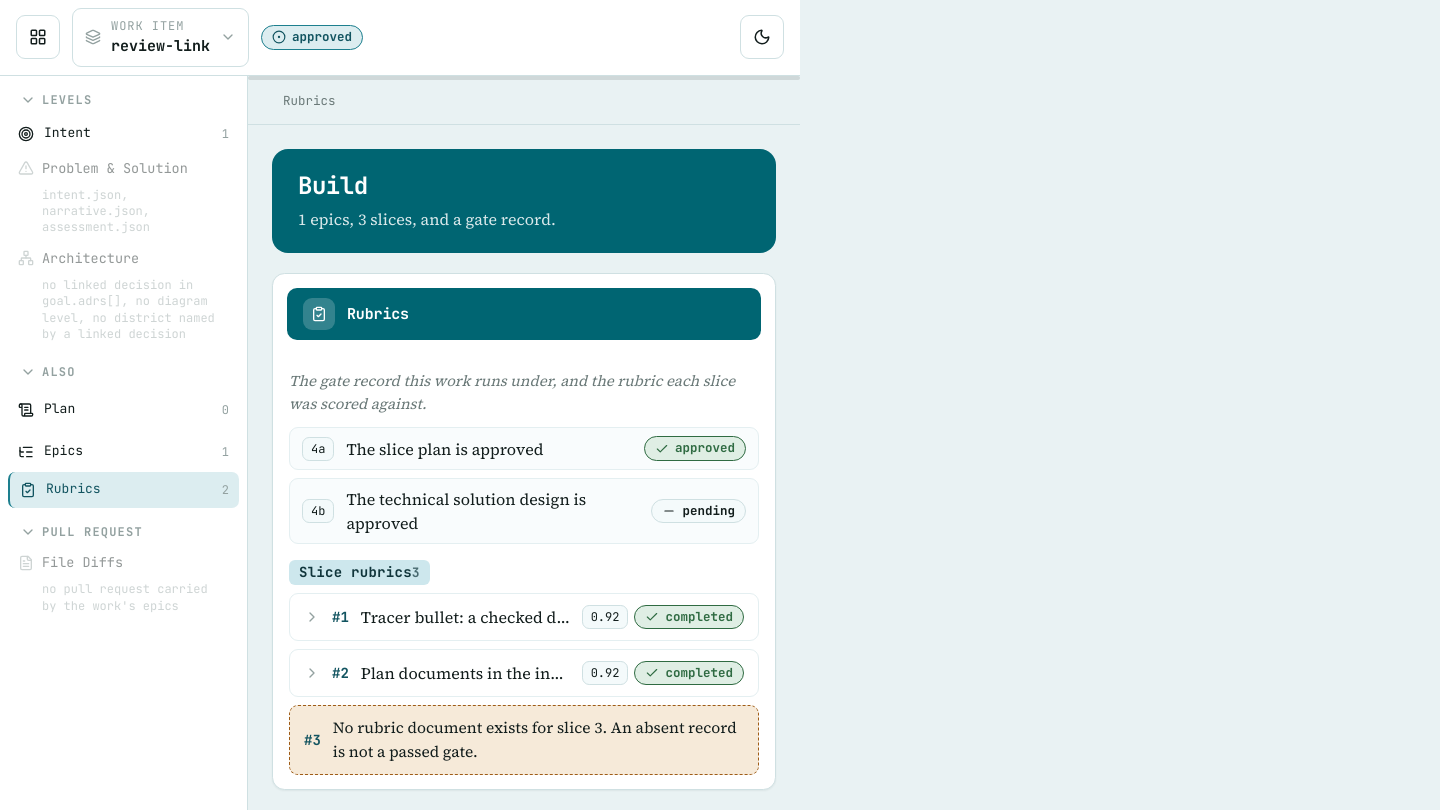
Test: the rubrics page › opens the rubric in the Sheet when a row is pressed
Check: the heading "Rubrics" is shown, box x1=347 y1=303 x2=409 y2=326
Click the button "#1 Tracer bullet: a checked deep link 0.92 completed": (524, 617) x1=289 y1=593 x2=759 y2=641
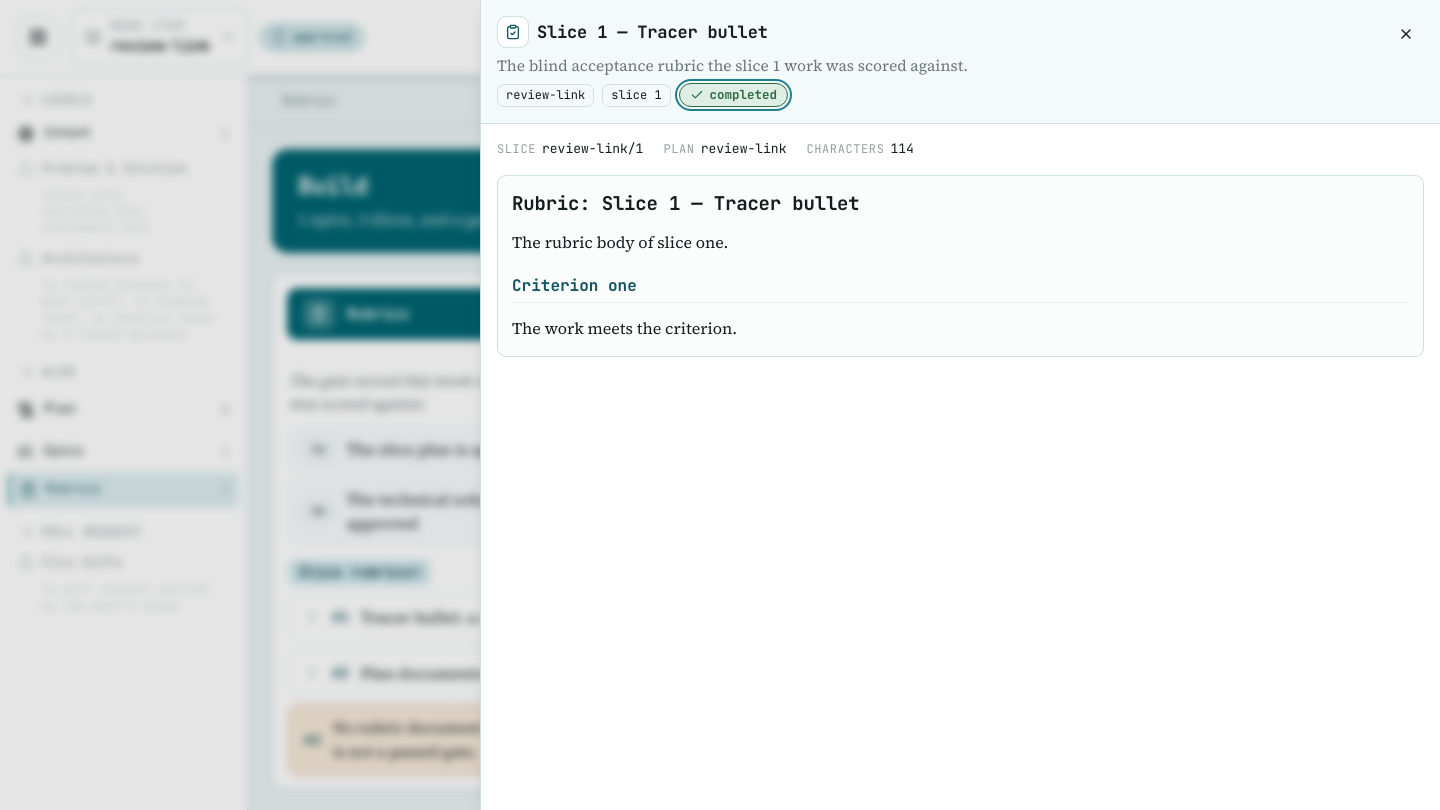
Check: the dialog is shown
Check: the heading "Slice 1 — Tracer bullet" is shown, box x1=537 y1=20 x2=768 y2=44
Check: the text "The rubric body of slice one." is shown, box x1=512 y1=231 x2=728 y2=253
Click the button named "Close": (1406, 34) x1=1384 y1=12 x2=1428 y2=56
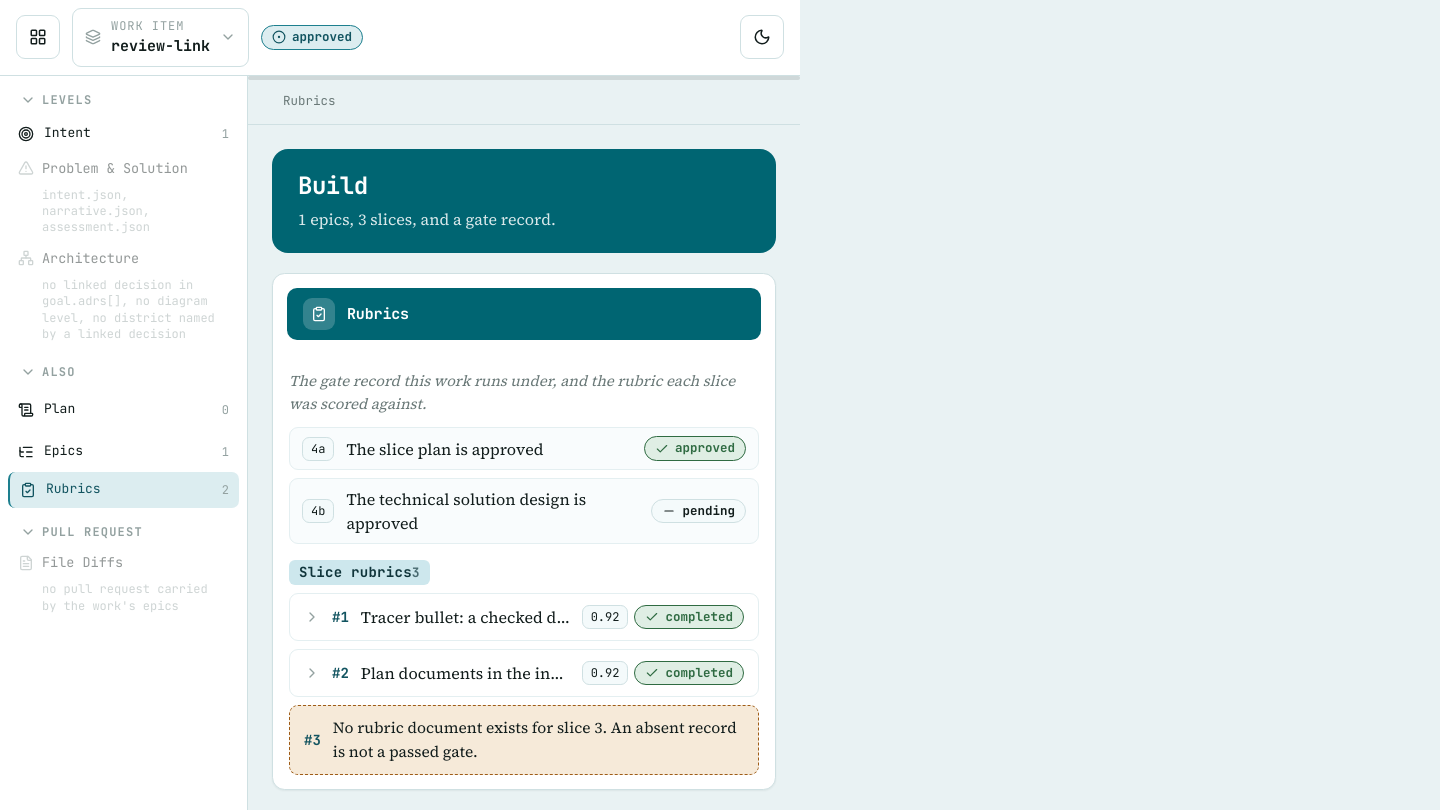
Check: the dialog is gone
